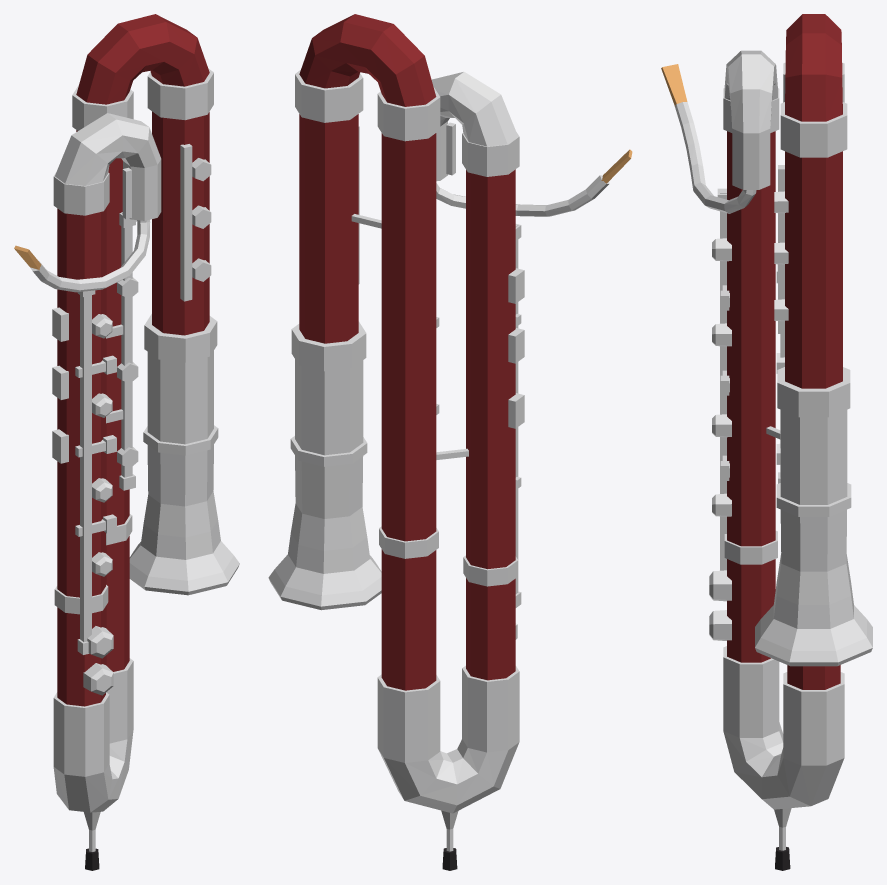
The model's file is contrabassoon-d65a7e.glb.
3 renders of one model, left to right at view 1: azimuth 30°, elevation 25°; view 2: azimuth 150°, elevation 25°; view 3: azimuth 270°, elevation 25°, orthographic. The views are drawn at different scales.
Parts seen in each view (by area): view 1: contrabassoon-body-metal, contrabassoon-body-matte, bocal-metal; view 2: contrabassoon-body-matte, contrabassoon-body-metal, bocal-metal; view 3: contrabassoon-body-metal, contrabassoon-body-matte, bocal-metal, bocal-matte.
Boxes of the visible parts, box(x1,y1,x2,y2) form: contrabassoon-body-metal: box(52, 68, 239, 851); contrabassoon-body-matte: box(57, 14, 209, 870); bocal-metal: box(30, 220, 150, 292); contrabassoon-body-matte: box(299, 14, 515, 870); contrabassoon-body-metal: box(268, 70, 524, 851); bocal-metal: box(436, 175, 609, 216); contrabassoon-body-metal: box(709, 50, 872, 850); contrabassoon-body-matte: box(727, 14, 842, 870); bocal-metal: box(675, 102, 756, 213); bocal-matte: box(661, 64, 687, 106).
Bounding box in the file's own units: 0.5501 × 1.55 × 0.3383.
